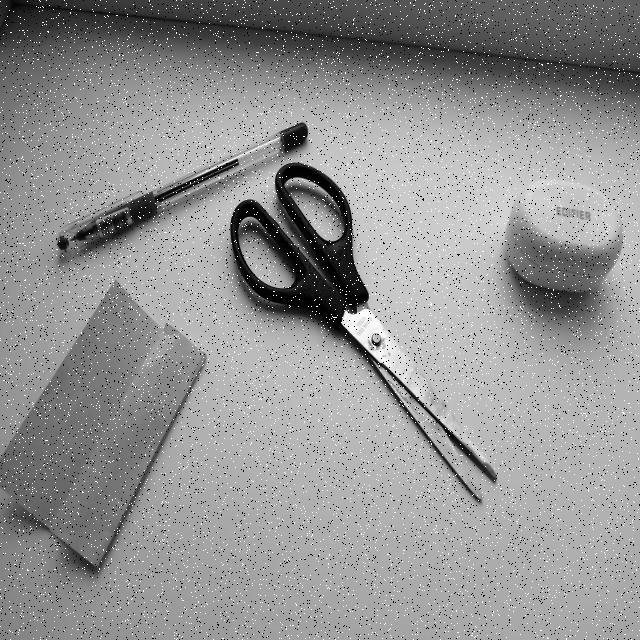scissors: (199, 140, 529, 571)
